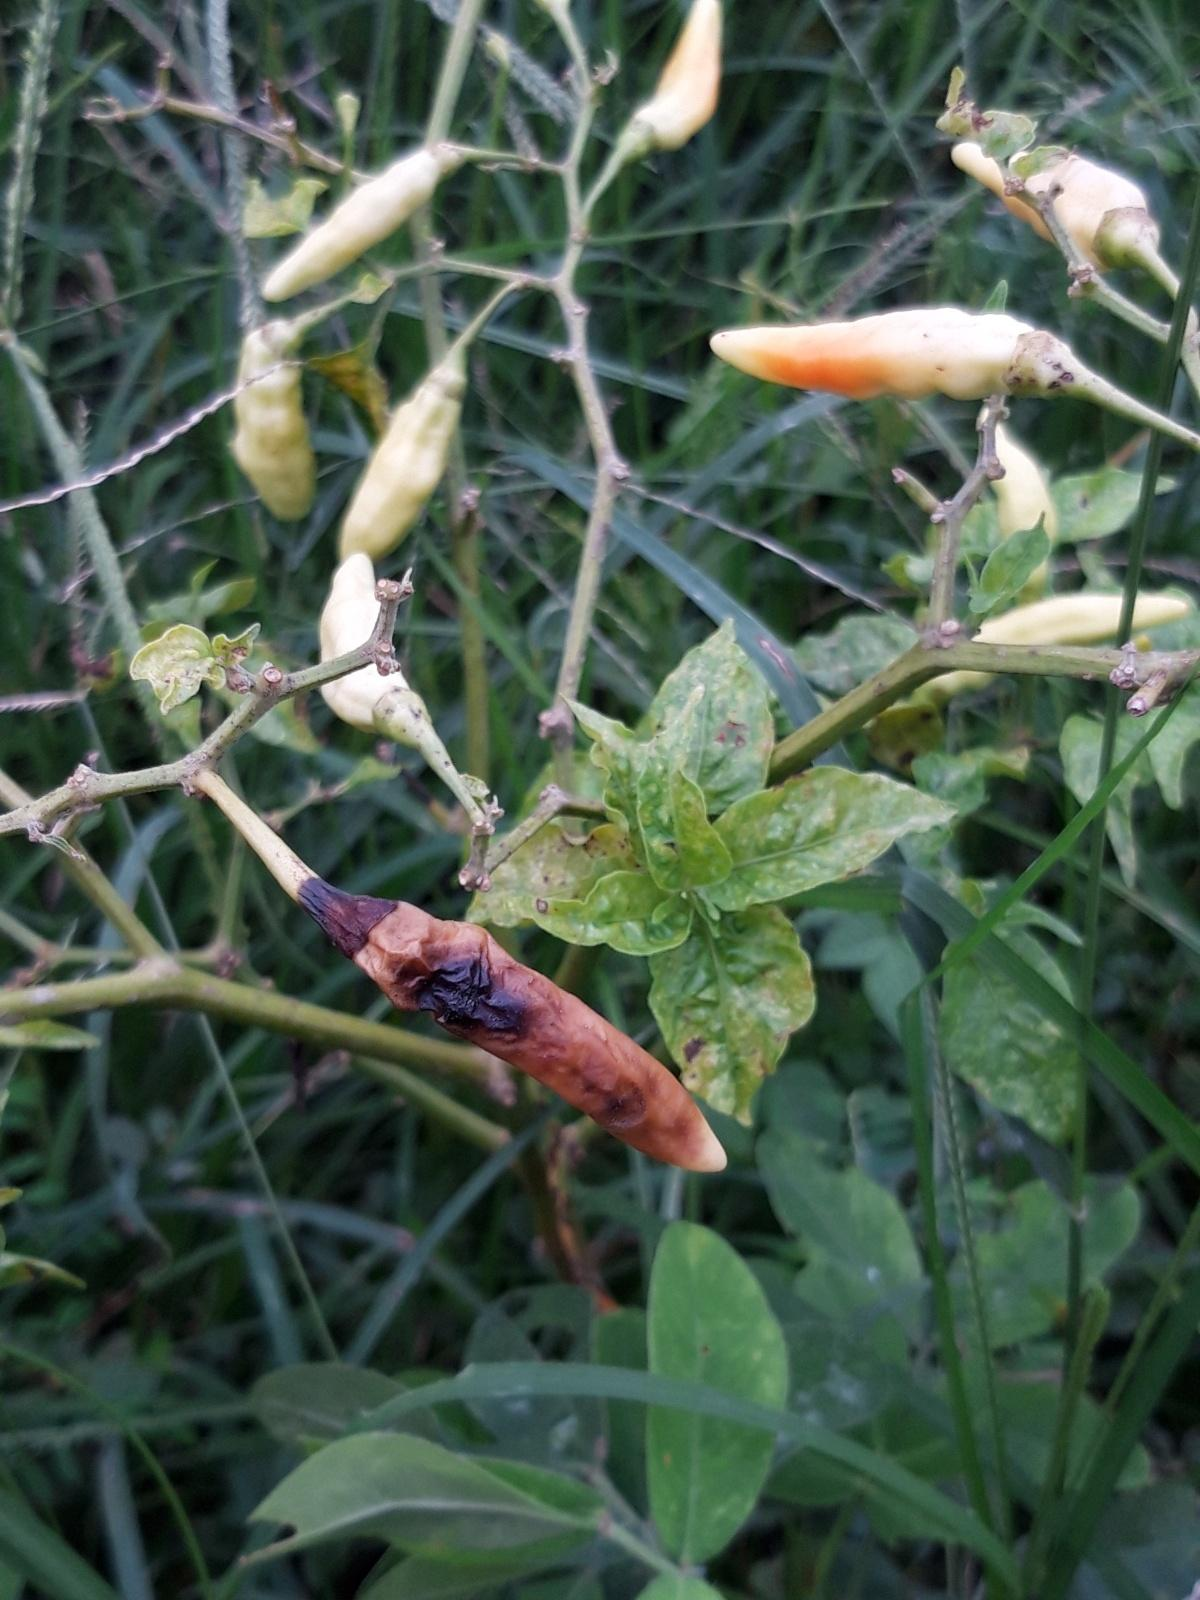antraknosa: (300, 868, 732, 1183)
cabai_normal: (700, 307, 1074, 406), (261, 144, 461, 301), (337, 355, 468, 571), (949, 139, 1139, 273), (942, 592, 1186, 688), (310, 554, 426, 740), (228, 321, 316, 520), (628, 0, 725, 154)
